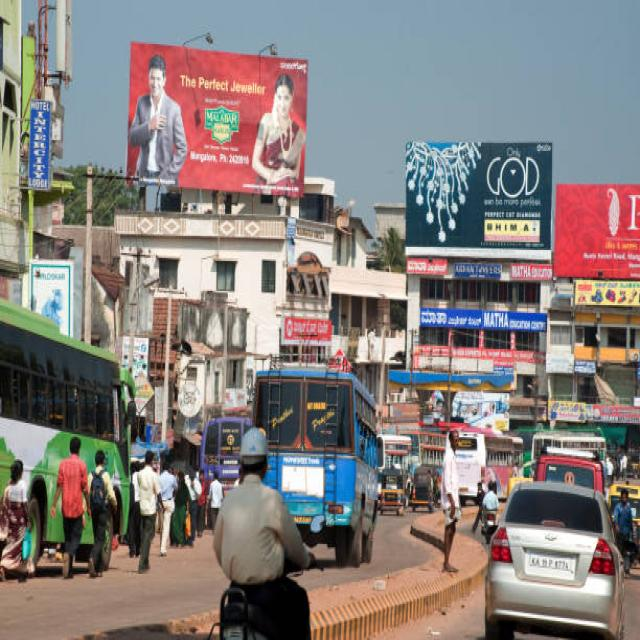Werbetafel frei: (131, 40, 304, 180), (406, 140, 550, 250), (555, 183, 640, 277)
